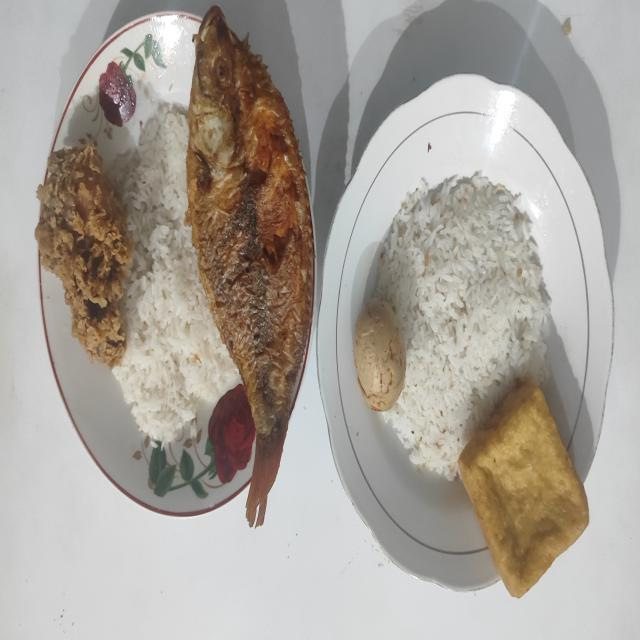ikan_mujair: (186, 6, 314, 526)
nasi_putih: (374, 172, 551, 480), (111, 104, 242, 443)
tahu_goreng: (458, 382, 588, 598)
